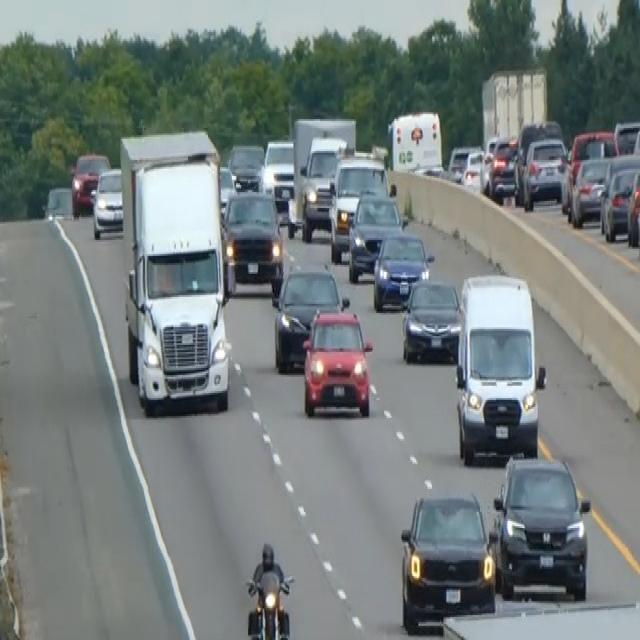car: (489, 450, 591, 601), (399, 489, 496, 633), (271, 263, 347, 372), (301, 306, 373, 418), (328, 151, 391, 263), (222, 187, 284, 297), (400, 276, 462, 362), (347, 190, 404, 283), (372, 228, 434, 311), (522, 135, 567, 210), (599, 160, 639, 242), (569, 153, 611, 226), (70, 149, 110, 217), (262, 137, 295, 219), (91, 166, 123, 238), (488, 135, 518, 201), (227, 140, 265, 192), (447, 142, 482, 187), (42, 183, 73, 221), (626, 164, 639, 247), (217, 162, 236, 213)
jeep: (299, 133, 347, 240)
lorry: (118, 126, 232, 416)
minibus: (453, 270, 547, 464)
motorcycle: (244, 569, 294, 638)
